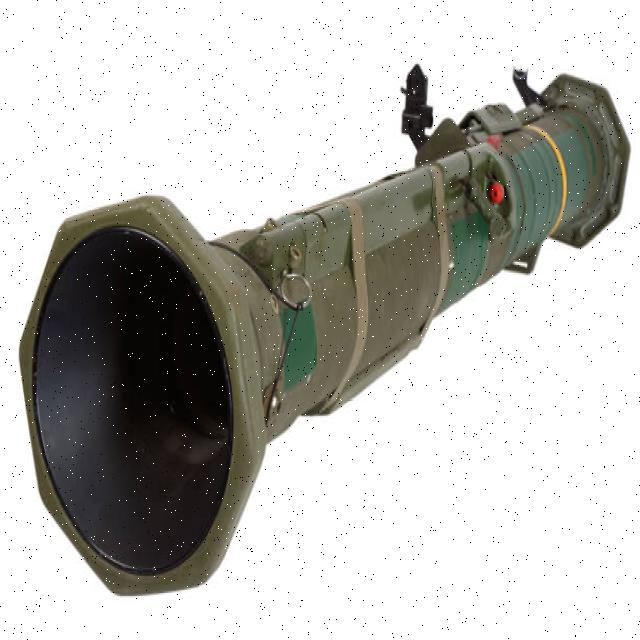bazooka: (13, 52, 636, 620)
